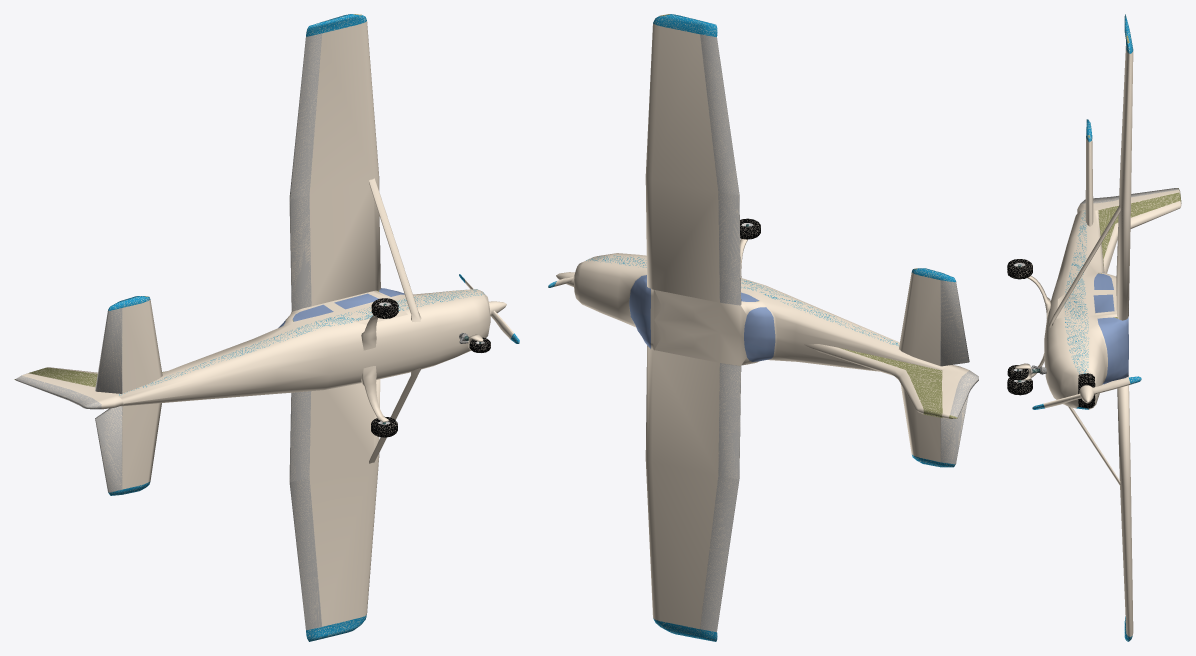
Rendered from Cessna001.dae.
The picture shows the model from 3 angles, left to right: view 1: azimuth 30°, elevation 25°; view 2: azimuth 150°, elevation 25°; view 3: azimuth 270°, elevation 25°; orthographic projection. The views are drawn at different scales.
Visible parts, largest first — view 1: component_0 (×15); view 2: component_0 (×17); view 3: component_0 (×15), component_1 (×2).
Part boxes in pixels (x1,y1,x2,y2): component_0 (×15): [15, 14, 490, 641]; component_0 (×17): [574, 14, 978, 641]; component_0 (×15): [1044, 44, 1181, 636]; component_1 (×2): [1007, 259, 1032, 395].
Bounding box in the file's own units: 8370 × 2874 × 11024.
